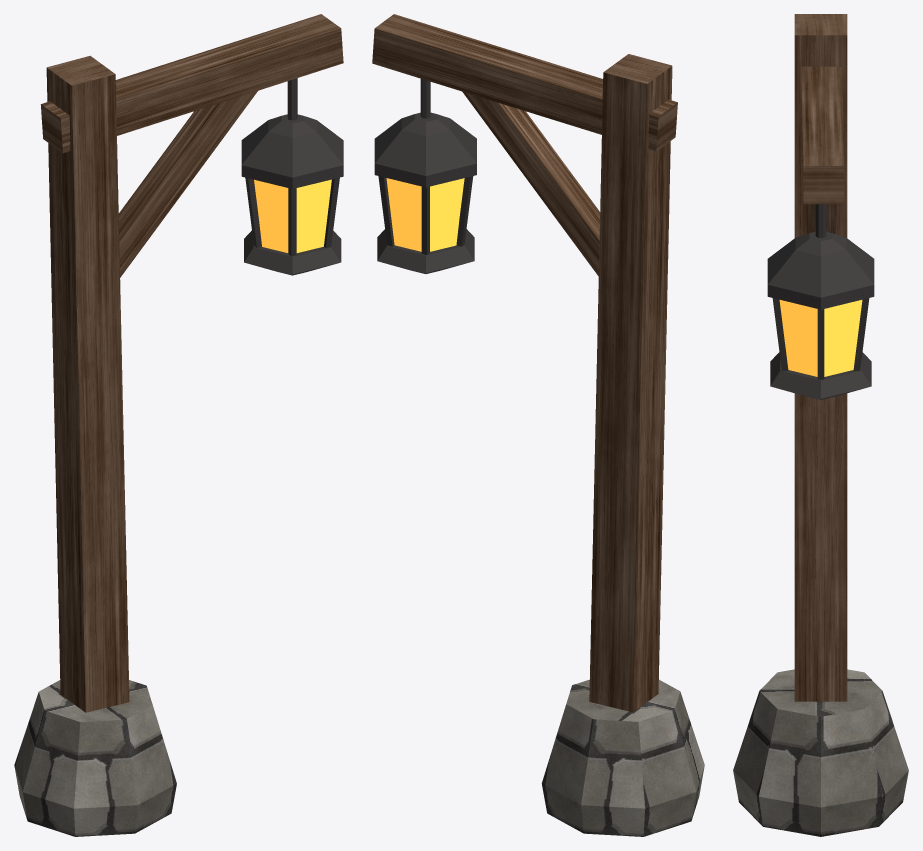
File: lantern.glb
3 renders of one model, left to right at view 1: azimuth 30°, elevation 25°; view 2: azimuth 150°, elevation 25°; view 3: azimuth 270°, elevation 25°, orthographic. The views are drawn at different scales.
Visible parts, largest first — view 1: lantern; view 2: lantern; view 3: lantern.
Part boxes in pixels (bbox=[...]): lantern: bbox=[14, 14, 343, 836]; lantern: bbox=[372, 14, 704, 836]; lantern: bbox=[733, 14, 908, 836].
Bounding box in the file's own units: 1.32 × 2.9 × 0.6.
4 materials, 2 textured.
